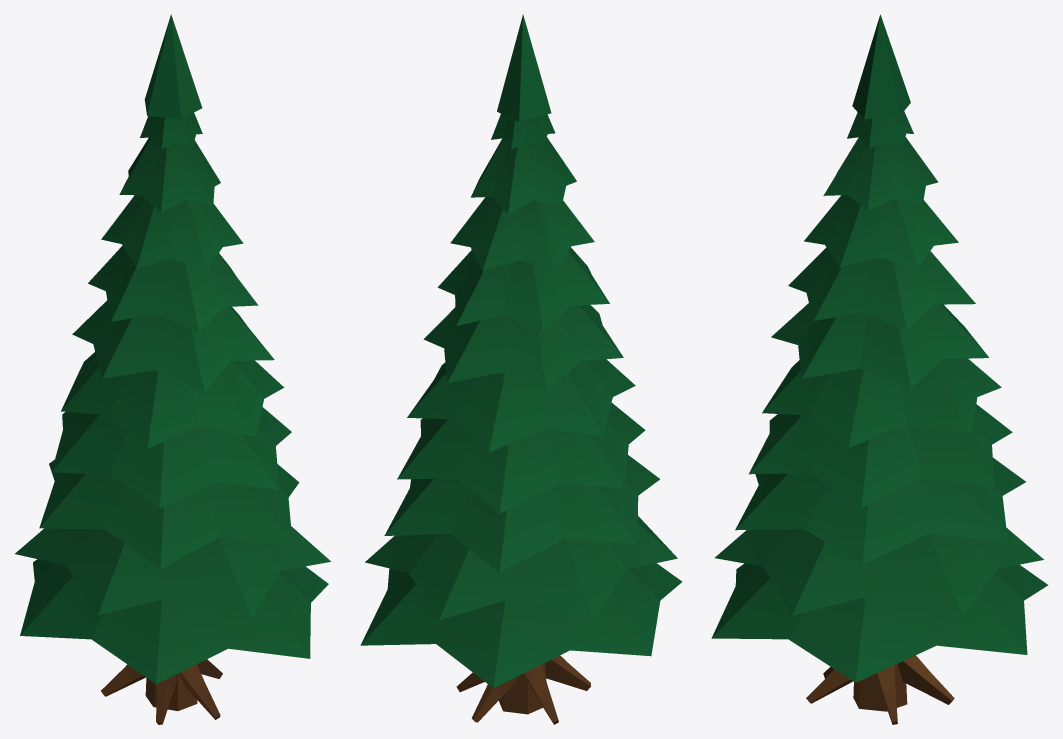
Rendered from tree_big_fir_low.glb.
3 renders of one model, left to right at view 1: azimuth 30°, elevation 25°; view 2: azimuth 150°, elevation 25°; view 3: azimuth 270°, elevation 25°, orthographic.
Bounding box in the file's own units: 6.35 × 14.6 × 6.49.
